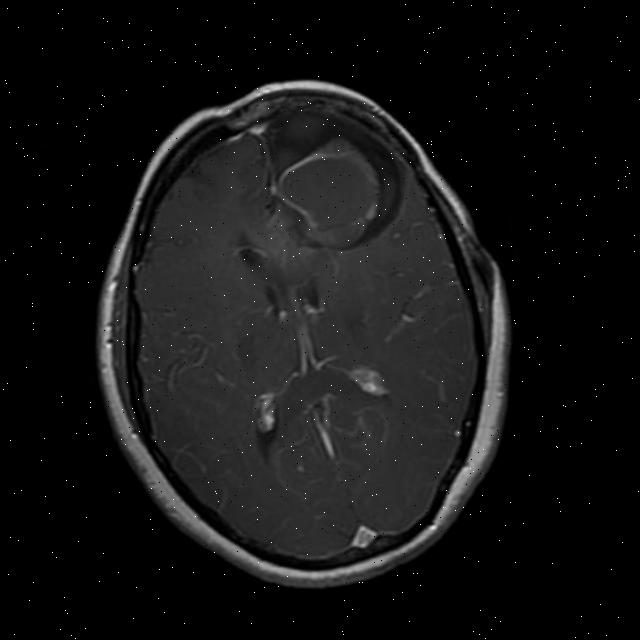Glioma: (262, 122, 397, 263)
